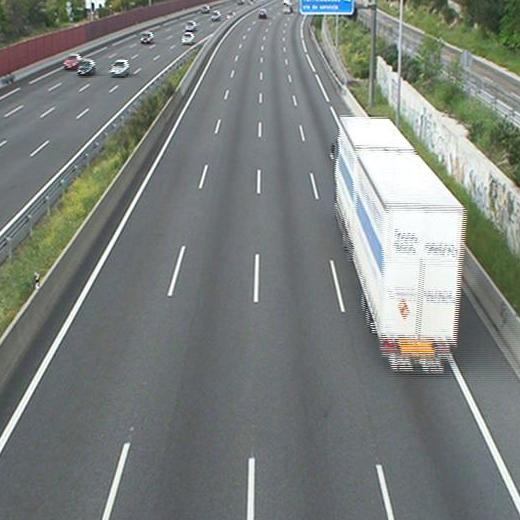car: (256, 8, 269, 17)
truck: (332, 117, 465, 372)
